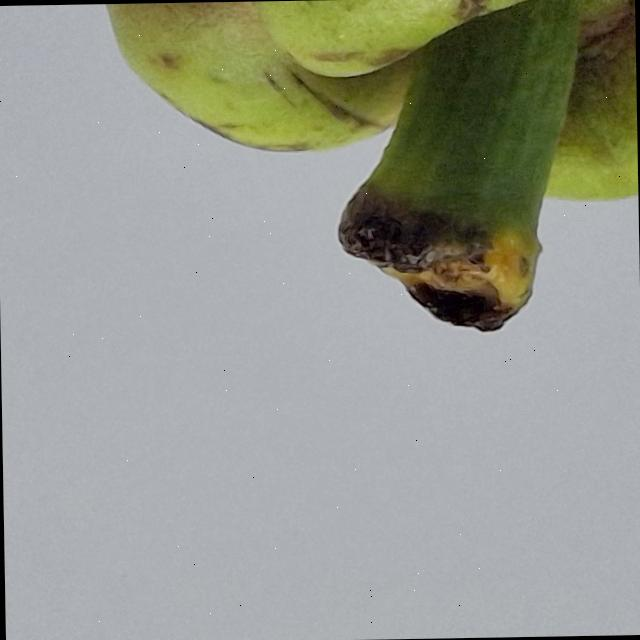mangosteen: (0, 0, 640, 385)
